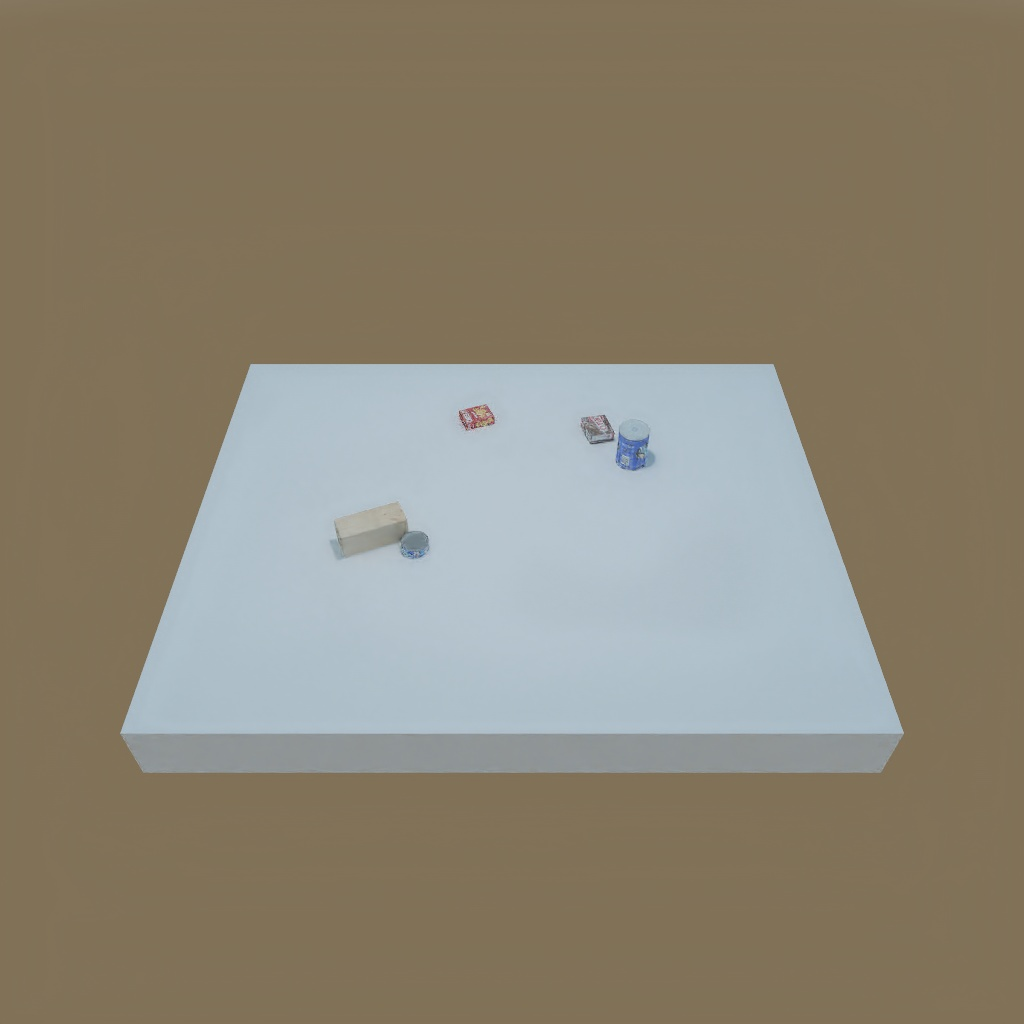master_chef_can: (613, 416, 652, 475)
pudding_box: (576, 410, 615, 446)
wood_block: (333, 505, 404, 555)
